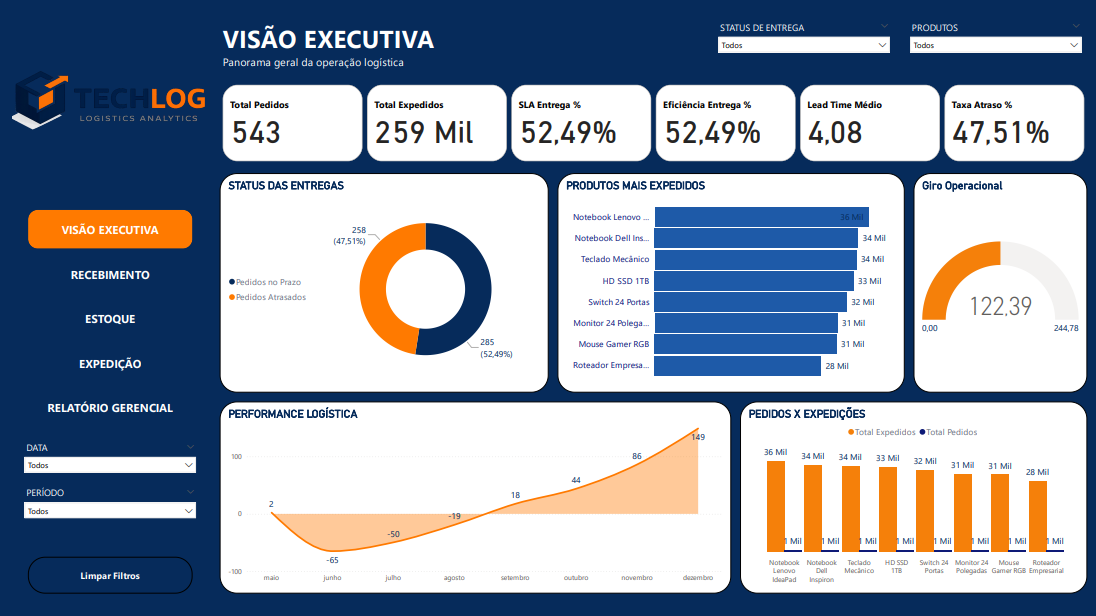

This screenshot's page, from the dashboard's own definition file:
{"tool":"powerbi","page":{"name":"VISÃO EXECUTIVA","canvas":[1920,1080],"ordinal":0},"visuals":[{"type":"textbox","box":[384,32,720,96],"z":0},{"type":"cardVisual","fields":{"Data":["expedicoes_tratado.Total Pedidos","produtos_expedidos.Total Expedidos","estoque_tratado.SLA Entrega %","avarias_tratado.Eficiência Entrega %","expedicoes_tratado.Lead Time Médio","estoque_tratado.Taxa Atraso %"]},"box":[384,144,1520,144],"z":1000},{"type":"donutChart","title":"STATUS DAS ENTREGAS","fields":{"Y":["expedicoes_tratado.Pedidos no Prazo","expedicoes_tratado.Pedidos Atrasados"]},"box":[384,304,576,384],"z":2000},{"type":"barChart","title":"PRODUTOS MAIS EXPEDIDOS","fields":{"Category":["produtos_expedidos.nome_produto"],"Y":["Medidas.Total Expedidos"]},"box":[976,304,608,384],"z":3000},{"type":"lineChart","title":"PERFORMANCE LOGÍSTICA","fields":{"Y":["expedicoes_tratado.Lead Time Médio"],"Category":["expedicoes_tratado.data_entrega.Variation.Hierarquia de datas.Ano","expedicoes_tratado.data_entrega.Variation.Hierarquia de datas.Mês","expedicoes_tratado.data_entrega.Variation.Hierarquia de datas.Dia"]},"box":[384,704,896,336],"z":4000},{"type":"pageNavigator","box":[48,368,288,384],"z":5000},{"type":"image","box":[16,16,352,352],"z":6000},{"type":"slicer","fields":{"Values":["expedicoes_tratado.status_entrega"]},"box":[1248,32,320,96],"z":7000},{"type":"clusteredColumnChart","title":"PEDIDOS X EXPEDIÇÕES","fields":{"Y":["produtos_expedidos.Total Expedidos","Medidas.Total Pedidos"],"Category":["produtos_expedidos.nome_produto"]},"box":[1296,704,608,336],"z":8000},{"type":"gauge","fields":{"Y":["Medidas.Giro Operacional"]},"box":[1600,304,304,384],"z":9000},{"type":"slicer","fields":{"Values":["expedicoes_tratado.data_entrega","expedicoes_tratado.data_saida"]},"box":[32,768,320,96],"z":10000},{"type":"slicer","fields":{"Values":["estoque_tratado.nome_produto"]},"box":[1584,32,320,96],"z":11000},{"type":"actionButton","box":[48,976,288,64],"z":12000},{"type":"slicer","fields":{"Values":["expedicoes_tratado.data_entrega.Variation.Hierarquia de datas.Ano"]},"box":[32,848,320,96],"z":13000}]}

Visuals, with their boxes in screenshot pixels (x1, y1, x2, y2), scaled from the page's 1920x1080 canvas onto the 1096x616 screenshot:
textbox: (left=219, top=18, right=630, bottom=73)
cardVisual - expedicoes_tratado.Total Pedidos x produtos_expedidos.Total Expedidos: (left=219, top=82, right=1087, bottom=164)
"STATUS DAS ENTREGAS" donutChart: (left=219, top=173, right=548, bottom=392)
"PRODUTOS MAIS EXPEDIDOS" barChart: (left=557, top=173, right=904, bottom=392)
"PERFORMANCE LOGÍSTICA" lineChart: (left=219, top=402, right=731, bottom=593)
pageNavigator: (left=27, top=210, right=192, bottom=429)
image: (left=9, top=9, right=210, bottom=210)
slicer - expedicoes_tratado.status_entrega: (left=712, top=18, right=895, bottom=73)
"PEDIDOS X EXPEDIÇÕES" clusteredColumnChart: (left=740, top=402, right=1087, bottom=593)
gauge - Medidas.Giro Operacional: (left=913, top=173, right=1087, bottom=392)
slicer - expedicoes_tratado.data_entrega x expedicoes_tratado.data_saida: (left=18, top=438, right=201, bottom=493)
slicer - estoque_tratado.nome_produto: (left=904, top=18, right=1087, bottom=73)
actionButton: (left=27, top=557, right=192, bottom=593)
slicer - expedicoes_tratado.data_entrega.Variation.Hierarquia de datas.Ano: (left=18, top=484, right=201, bottom=538)
